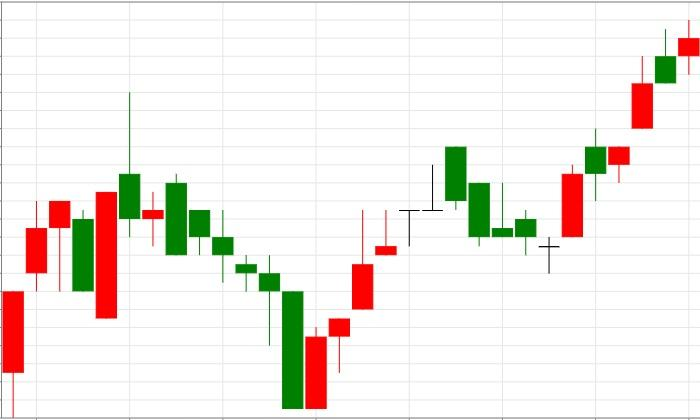hanging_man_fall: (1, 201, 71, 417)
three_white_soldiers_rise: (119, 91, 374, 409)
